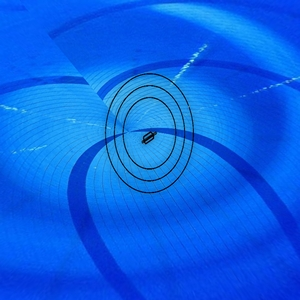circle: (105, 70, 197, 199)
submarine: (139, 125, 162, 149)
